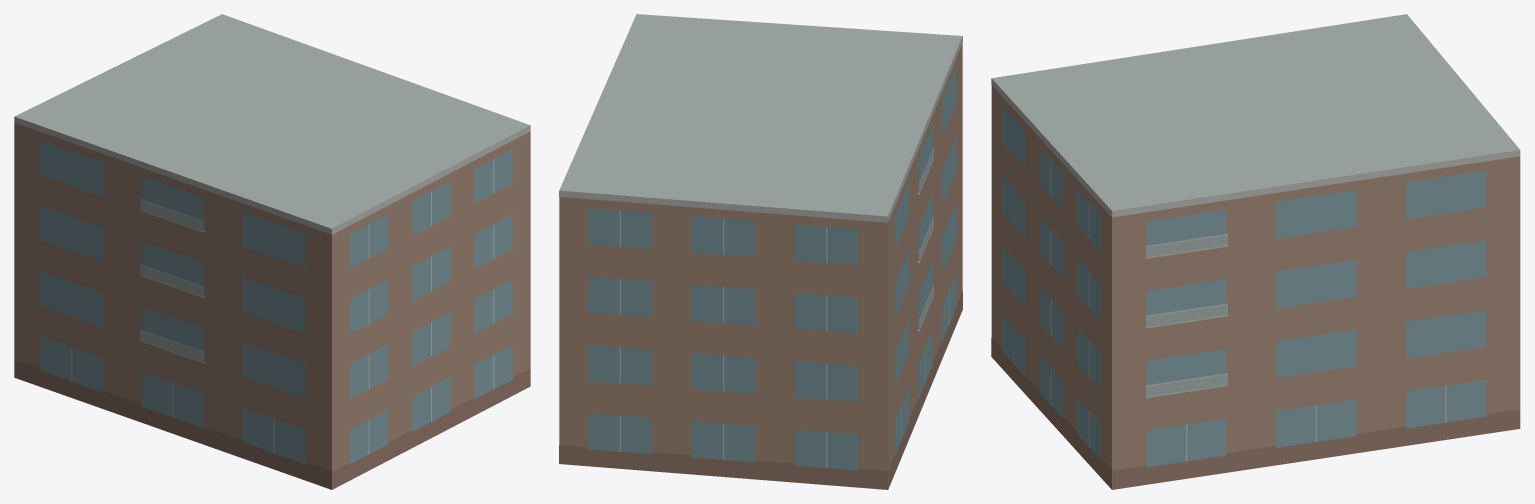
The model's file is survey-upis-32946307.glb.
3 renders of one model, left to right at view 1: azimuth 30°, elevation 25°; view 2: azimuth 150°, elevation 25°; view 3: azimuth 270°, elevation 25°, orthographic. The views are drawn at different scales.
Parts seen in each view (by area): view 1: survey-upis-32946307.tmp; view 2: survey-upis-32946307.tmp; view 3: survey-upis-32946307.tmp.
Part boxes in pixels (left/top/right/bottom): survey-upis-32946307.tmp: left=14, top=14, right=530, bottom=489; survey-upis-32946307.tmp: left=559, top=14, right=962, bottom=489; survey-upis-32946307.tmp: left=991, top=14, right=1520, bottom=489.
Bounding box in the file's own units: 16.24 × 10.7 × 18.41.
